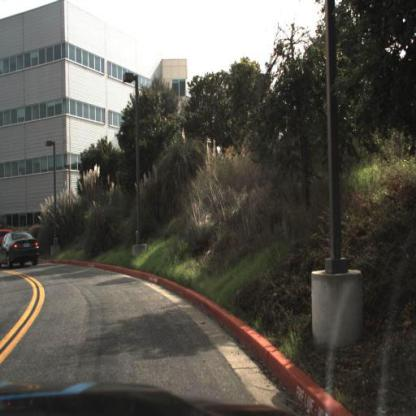car: (1, 227, 43, 270)
